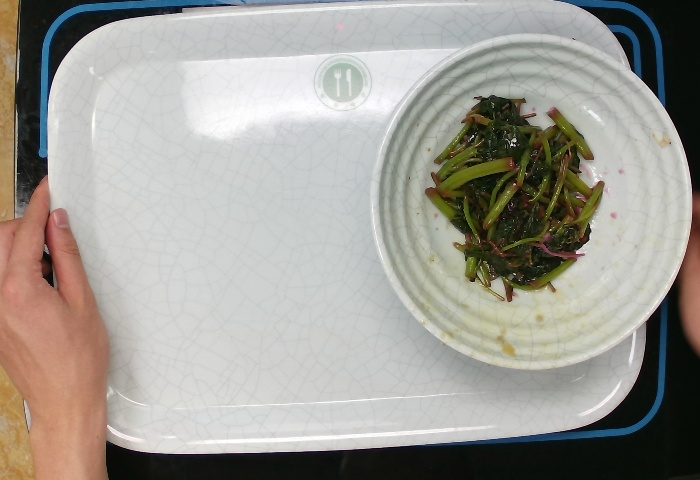JYsf-Da_Tang_Wan: (366, 33, 693, 370)
